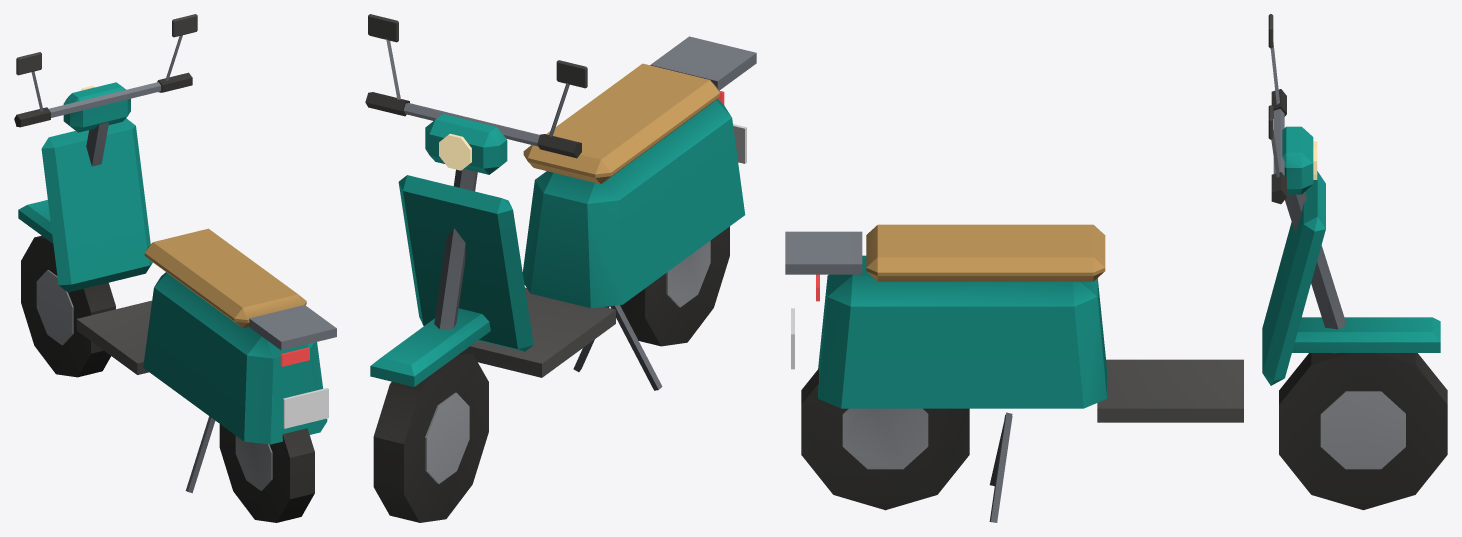
Rendered from scooter_01.glb.
The picture shows the model from 3 angles, left to right: view 1: azimuth 30°, elevation 25°; view 2: azimuth 150°, elevation 25°; view 3: azimuth 270°, elevation 25°; orthographic projection. The views are drawn at different scales.
Visible parts, largest first — view 1: scooter_01_mesh, scooter_01_lamp; view 2: scooter_01_mesh, scooter_01_lamp; view 3: scooter_01_mesh.
Boxes of the visible parts, box(x1,y1,x2,y2) form: scooter_01_mesh: box(14, 14, 336, 522); scooter_01_lamp: box(80, 85, 309, 366); scooter_01_mesh: box(365, 14, 756, 522); scooter_01_lamp: box(439, 90, 724, 170); scooter_01_mesh: box(785, 14, 1447, 522).
Size of the model in its own units: 0.65 by 1.26 by 1.72.
2 materials, 2 textured.
